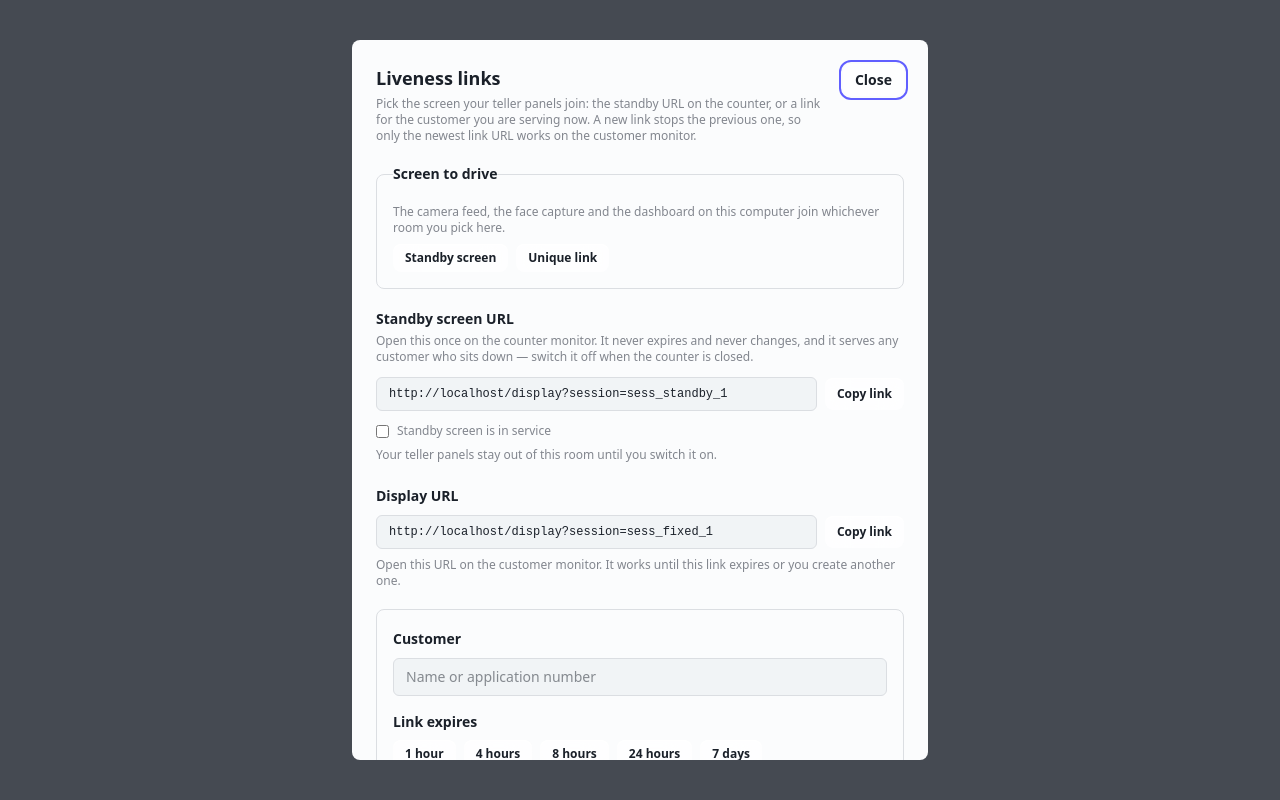
Test case: LivenessPageModal › shows the standby URL and switches the counter screen on from here
Expected: the text "stay out of this room until" is shown, [376,446,717,463]
Click the checkbox labelled "Standby screen is in service": (382, 431) [376,424,389,438]
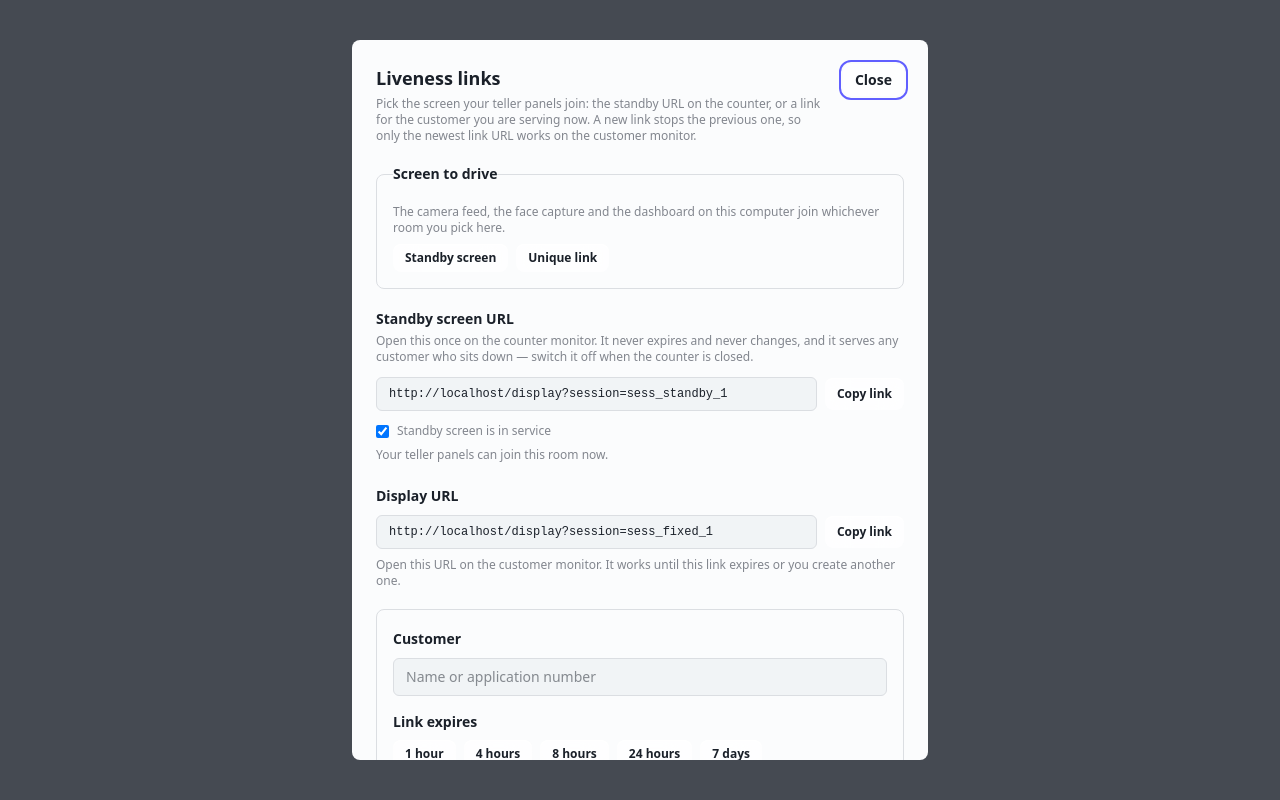
Now the checkbox labelled "Standby screen is in service" is checked, box [376,424,389,438]
Now the text "Your teller panels can join this room now." is shown, box [376,446,608,463]
